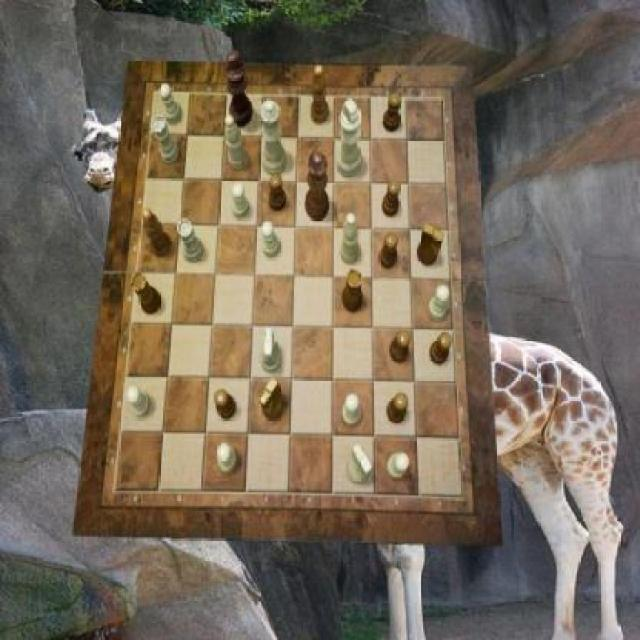bishop: (142, 210, 172, 258), (311, 66, 328, 126)
black-bishop: (224, 49, 253, 127)
black-king: (417, 223, 444, 265), (260, 377, 285, 419)
black-knight: (429, 330, 452, 364), (383, 94, 401, 134), (391, 330, 412, 364), (386, 394, 409, 424), (214, 389, 236, 420), (269, 174, 287, 211), (380, 232, 398, 268), (382, 179, 399, 216)
black-pawn: (304, 151, 328, 220)
black-queen: (131, 272, 161, 315), (343, 269, 363, 313)
black-rook: (224, 115, 248, 170), (340, 214, 360, 266)
white-bishop: (337, 98, 361, 178)
white-king: (349, 444, 374, 484), (260, 328, 282, 373)
white-knight: (160, 84, 183, 124), (126, 384, 151, 418), (428, 284, 450, 320), (262, 222, 280, 259), (232, 183, 250, 219), (343, 394, 363, 426), (217, 442, 237, 472), (388, 452, 410, 478)
white-pawn: (260, 100, 287, 176)
white-queen: (153, 116, 180, 164), (177, 218, 204, 262)
